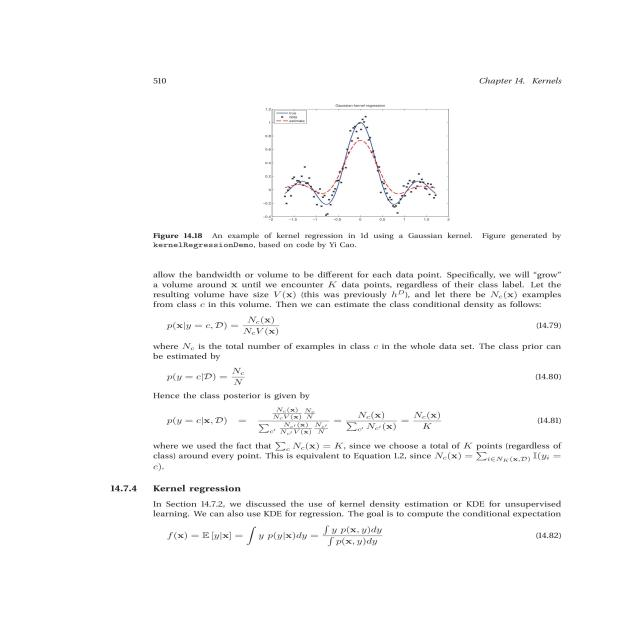diagram: (128, 92, 640, 256)
